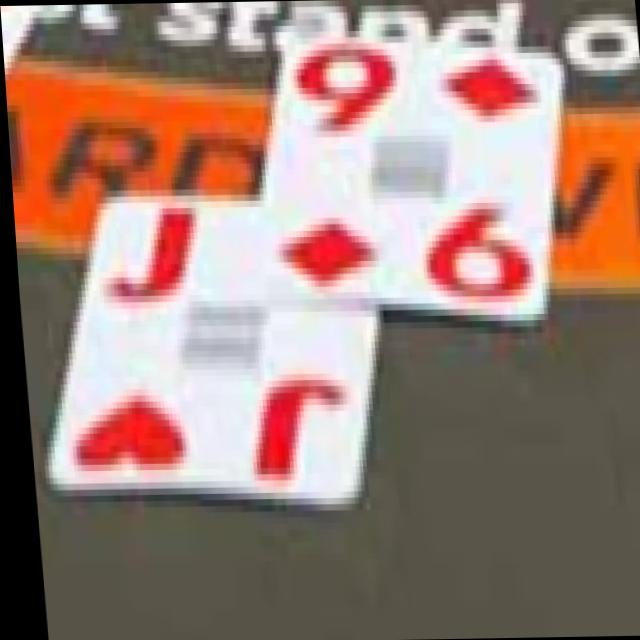Card-9: (243, 31, 555, 315)
Card-J: (44, 201, 372, 502)
